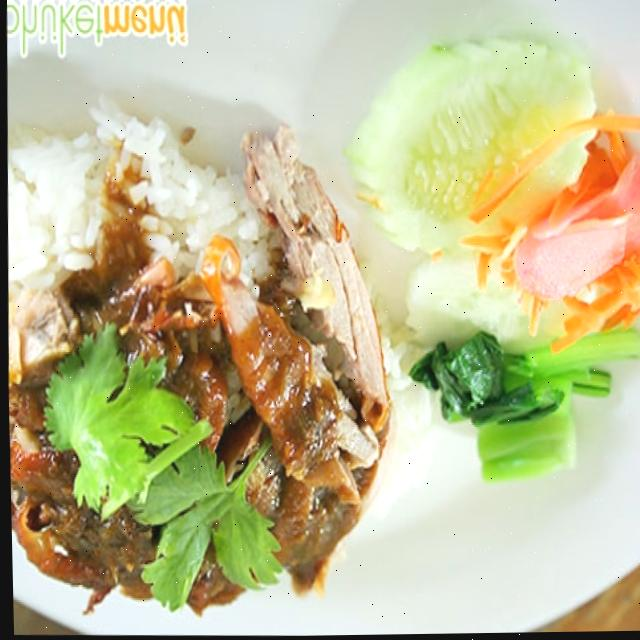米饭主食: (2, 116, 379, 612)
